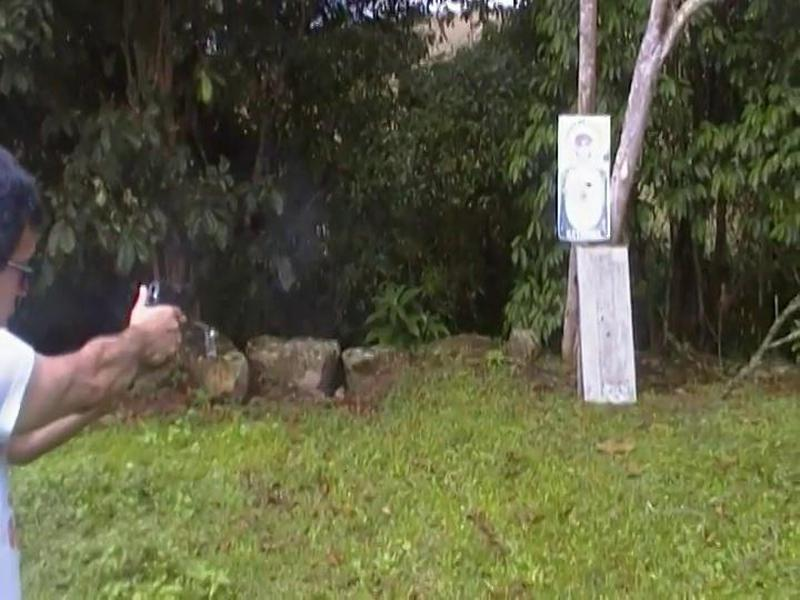Pistola: (133, 266, 215, 337)
